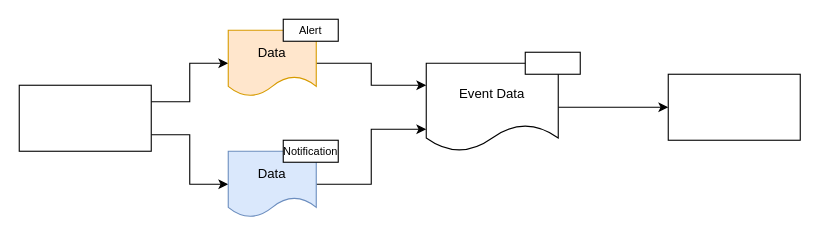
Image size: 820x237. Some labels were removed from this diagram. The shapes that lost their labels are listed below. From the top down, each one's centre as x and y in pixels, then its label:
point 552,62: S3
point 84,117: Simple CLI clients
point 733,106: CLI Consumer
